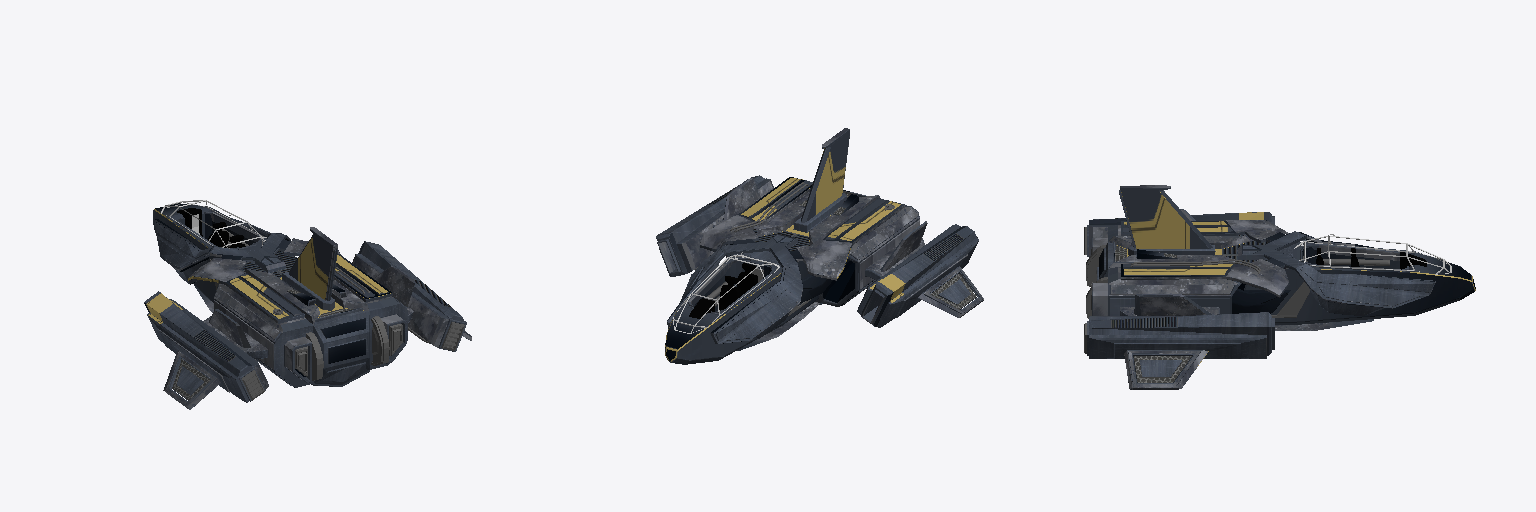
3 views of the same model, side by side, from view 1: azimuth 30°, elevation 25°; view 2: azimuth 150°, elevation 25°; view 3: azimuth 270°, elevation 25° (orthographic).
Parts seen in each view (by area): view 1: ship, cockpit.002; view 2: ship, Cube, cockpit.002; view 3: ship, cockpit.002.
Part boxes in pixels (x1,y1,x2,y2): ship: (144, 203, 471, 409); cockpit.002: (161, 200, 266, 248); ship: (656, 128, 983, 364); Cube: (719, 263, 757, 310); cockpit.002: (673, 254, 779, 333); ship: (1084, 185, 1475, 389); cockpit.002: (1294, 235, 1451, 274).
Size of the model in its own units: 10.16 by 4.73 by 12.09.
Materials: 9 (1 with a texture image).